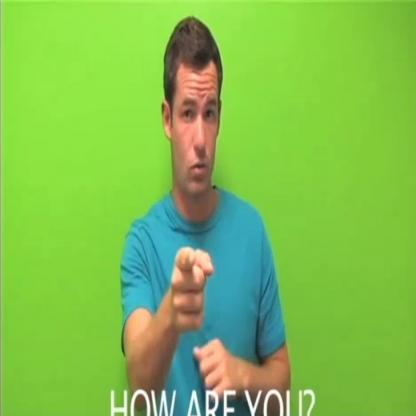HowAreYou: (162, 242, 242, 383)
